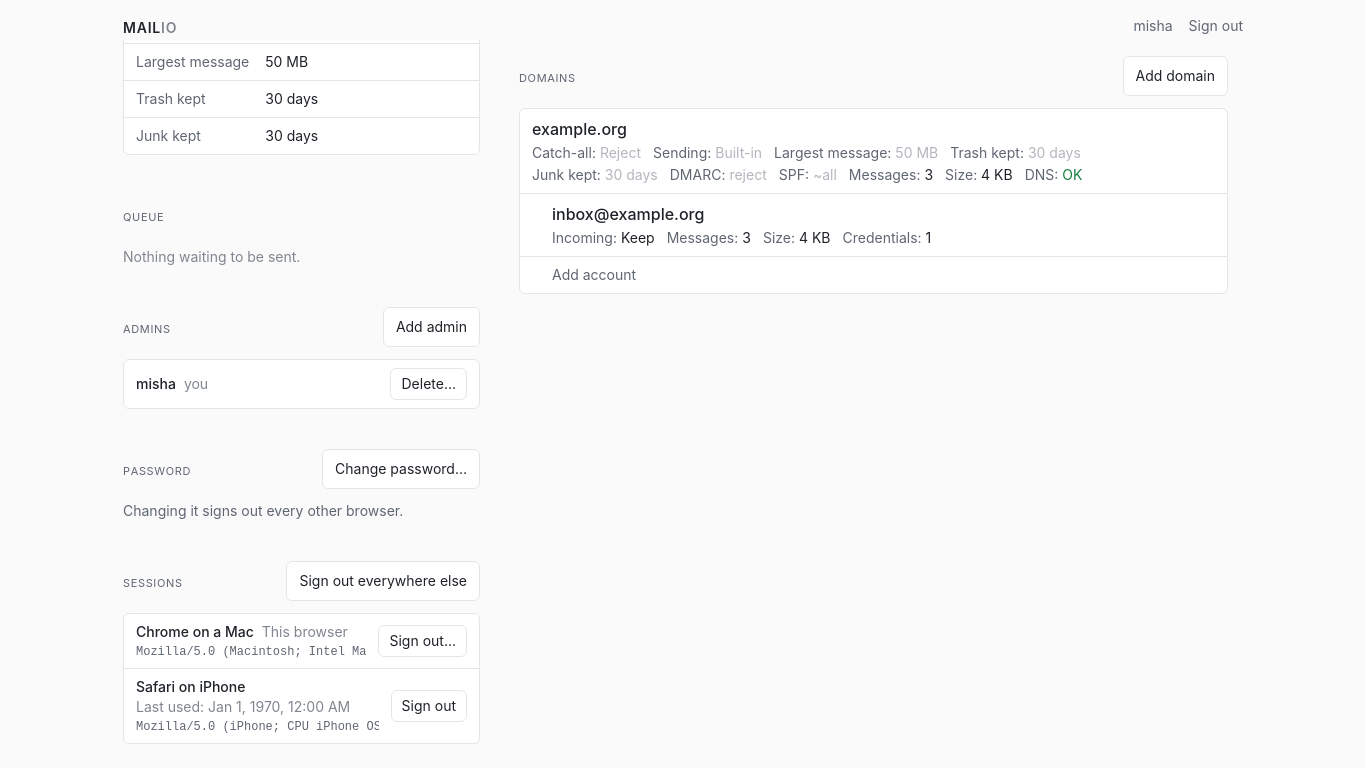
the page lists where you are signed in under the admins, and signs out one or all the others
(page scrolled)
expect the text "Chrome on a Mac" is shown: met, box [136,622,254,642]
expect the text "This browser" is shown: met, box [262,622,348,642]
Click the button "Sign out" in the row of "Safari on iPhone".
click(429, 706)  # box [391,690,467,722]
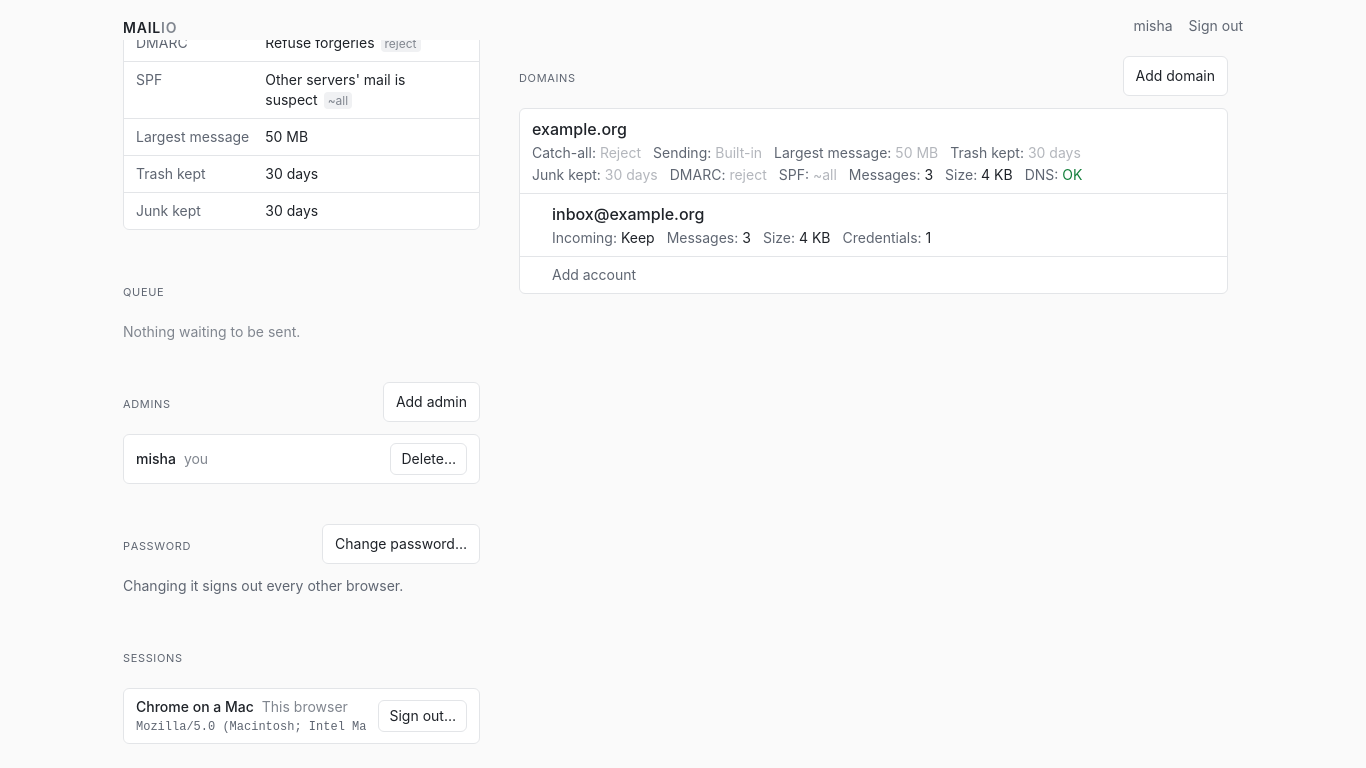
expect the button "Sign out everywhere else" is gone: met
